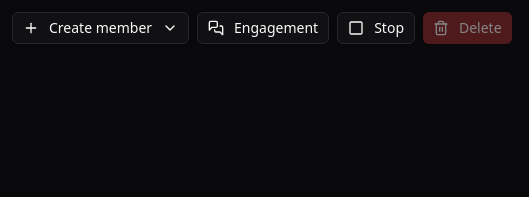
UnitPaneActions — Create member dropdown (#2544) › opens a menu with agent, human, and sub-unit entries
Click the button with test id "unit-action-create-member".
click(101, 28)  # box [12,12,189,44]
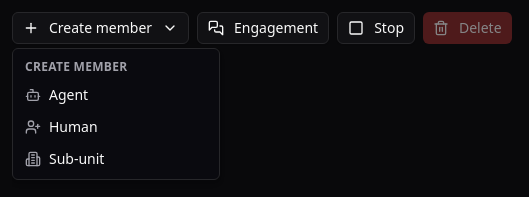
Expected: the menu with test id "unit-create-member-menu" is shown, [12,48,220,180]
Expected: the menu item with test id "unit-create-member-agent" is shown, [13,79,219,111]
Expected: the menu item with test id "unit-create-member-human" is shown, [13,111,219,143]
